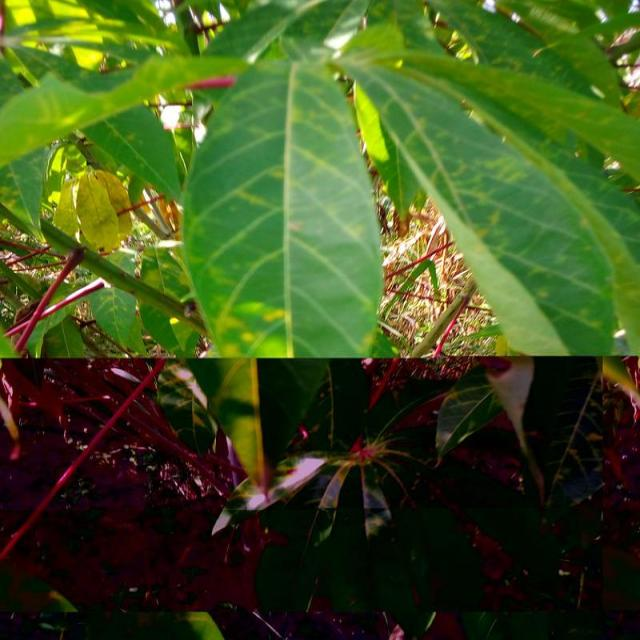cassava leaf: (334, 10, 639, 355), (180, 58, 387, 357)
